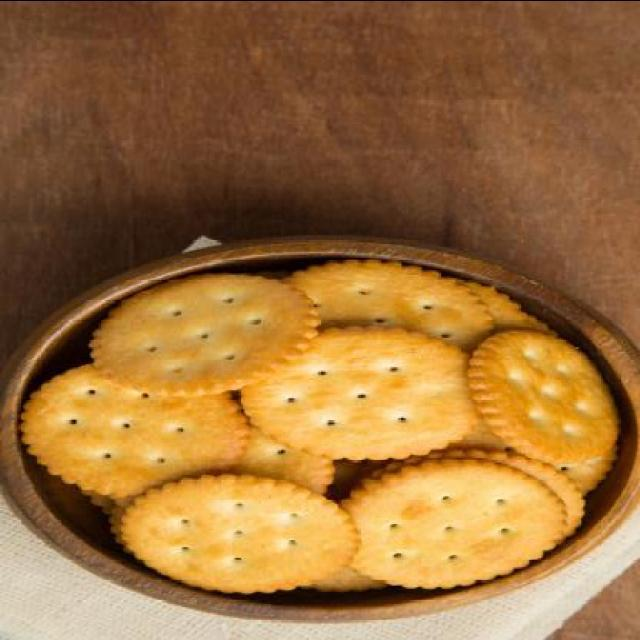Ritz cracker packaged: (54, 264, 623, 606)
